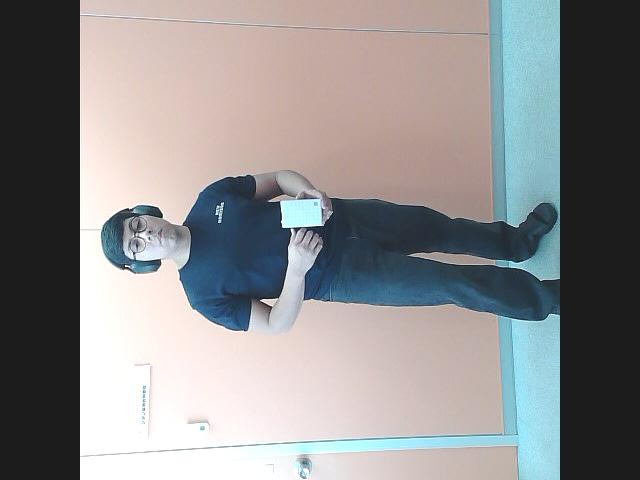Blind_box: (280, 195, 322, 231)
